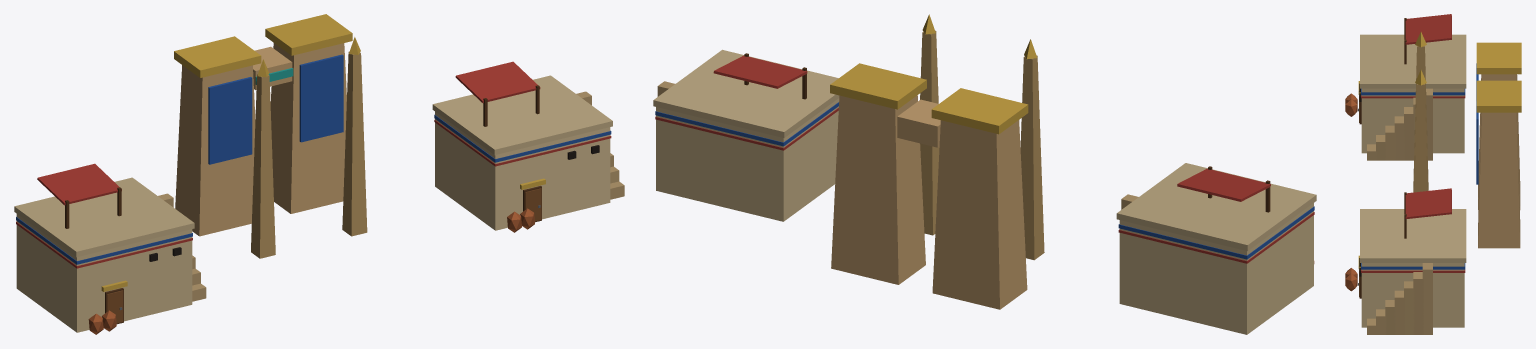
Rendered from gnoll_court.glb.
3 views of the same model, side by side, from view 1: azimuth 30°, elevation 25°; view 2: azimuth 150°, elevation 25°; view 3: azimuth 270°, elevation 25° (orthographic). The views are drawn at different scales.
Visible parts, largest first — view 1: gnoll_court; view 2: gnoll_court; view 3: gnoll_court.
Boxes of the visible parts, x1=… form: gnoll_court: x1=14, y1=14, x2=624, y2=334; gnoll_court: x1=653, y1=14, x2=1316, y2=334; gnoll_court: x1=1345, y1=14, x2=1521, y2=334.
Bounding box in the file's own units: 6.34 × 2.14 × 2.05.
